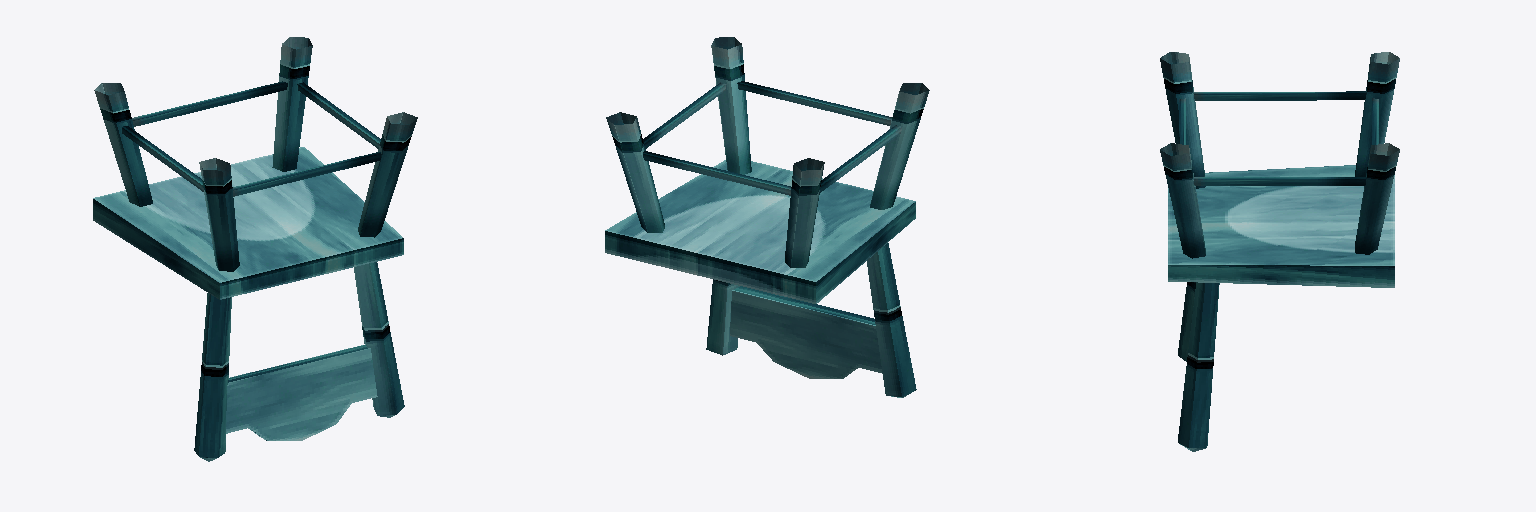
3 renders of one model, left to right at view 1: azimuth 30°, elevation 25°; view 2: azimuth 150°, elevation 25°; view 3: azimuth 270°, elevation 25°, orthographic.
Visible parts, largest first — view 1: map; view 2: map; view 3: map.
Boxes of the visible parts, box(x1,y1,x2,y2) form: map: box(93, 37, 417, 461); map: box(605, 37, 929, 397); map: box(1160, 52, 1399, 451).
Size of the model in its own units: 55.6 by 75.4 by 54.
Materials: 2 (2 with a texture image).